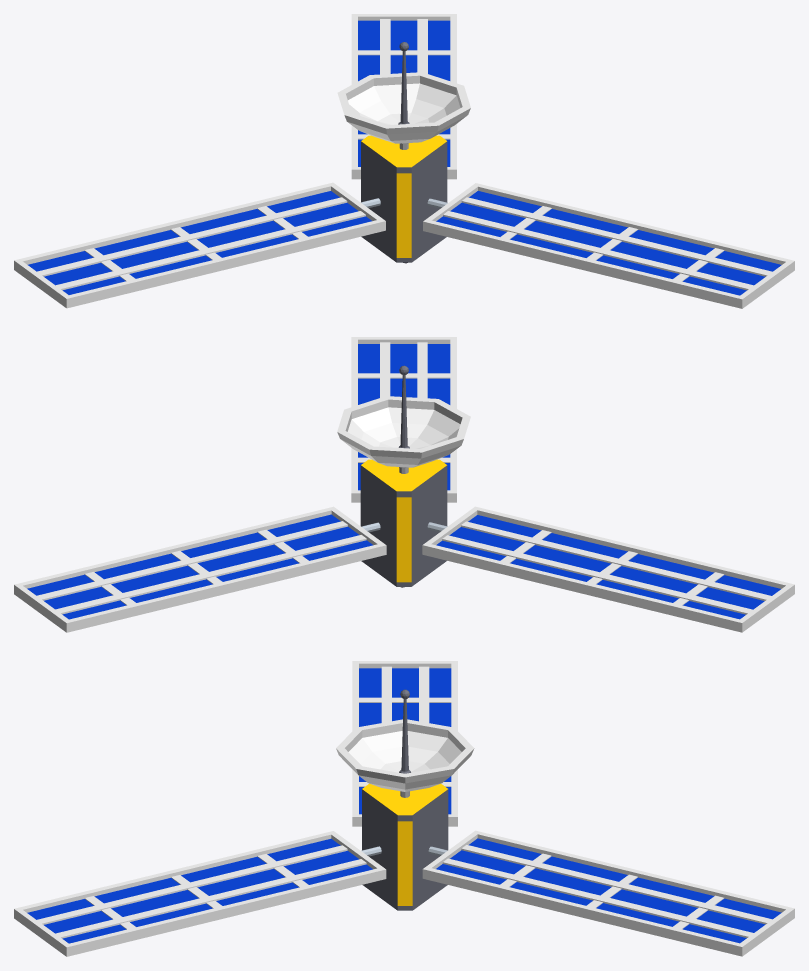
Rendered from Satellite13.glb.
3 renders of one model, top to bottom at view 1: azimuth 30°, elevation 25°; view 2: azimuth 150°, elevation 25°; view 3: azimuth 270°, elevation 25°, orthographic.
Visible parts, largest first — view 1: Satellite13-Panel2, Satellite13-Panel1, Satellite13-main, Satellite13-Panel3, Satellite13-head; view 2: Satellite13-Panel1, Satellite13-Panel3, Satellite13-main, Satellite13-Panel2, Satellite13-head; view 3: Satellite13-Panel2, Satellite13-Panel3, Satellite13-main, Satellite13-Panel1, Satellite13-head.
Boxes of the visible parts, x1,y1,x2,y2 form: Satellite13-Panel2: (423,183,794,308); Satellite13-Panel1: (14,182,385,308); Satellite13-main: (361,135,447,263); Satellite13-Panel3: (351,14,456,179); Satellite13-head: (337,42,470,149); Satellite13-Panel1: (422,506,794,632); Satellite13-Panel3: (14,506,386,632); Satellite13-main: (360,459,447,587); Satellite13-Panel2: (351,337,456,502); Satellite13-head: (337,365,470,473); Satellite13-Panel2: (14,831,386,956); Satellite13-Panel3: (422,830,794,956); Satellite13-main: (362,783,448,910); Satellite13-Panel1: (352,661,457,826); Satellite13-head: (336,689,474,797).
Bounding box in the file's own units: 12.84 × 4.6 × 14.81.
